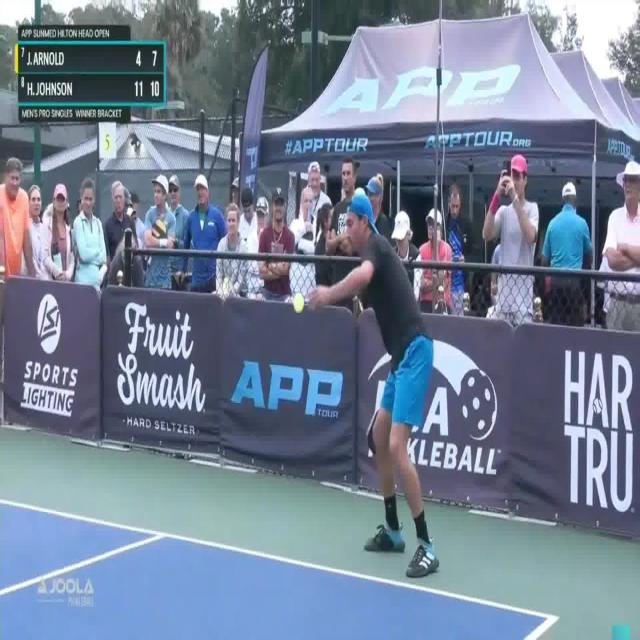ball: (291, 290, 305, 318)
